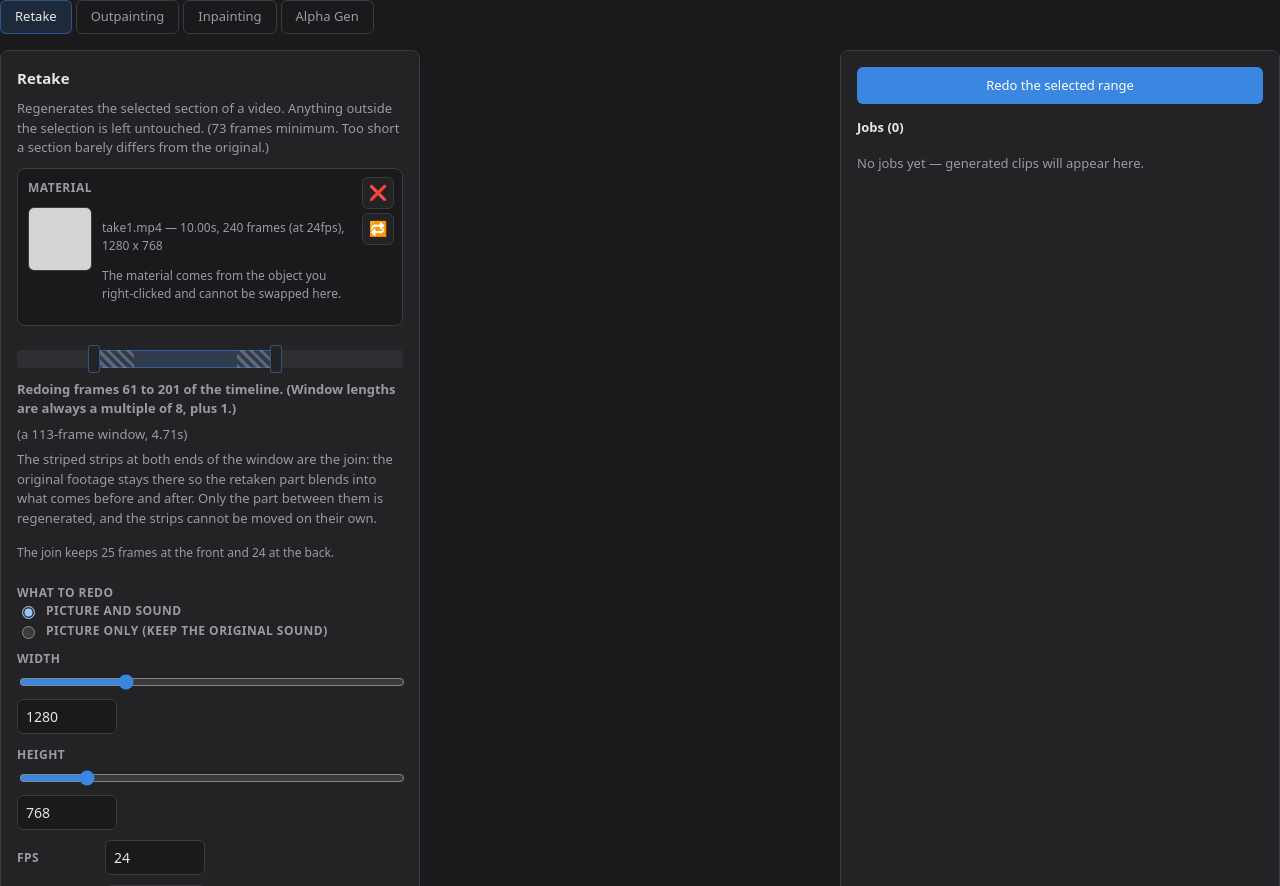
Test case: EditScreen — Retake の ❌ / 🔁 › ❌ を押すと案内状態へ戻り、生成ボタンも消える
Click the button named "Clear this retake and reset the settings" at (378, 192), box [362,176,394,208]
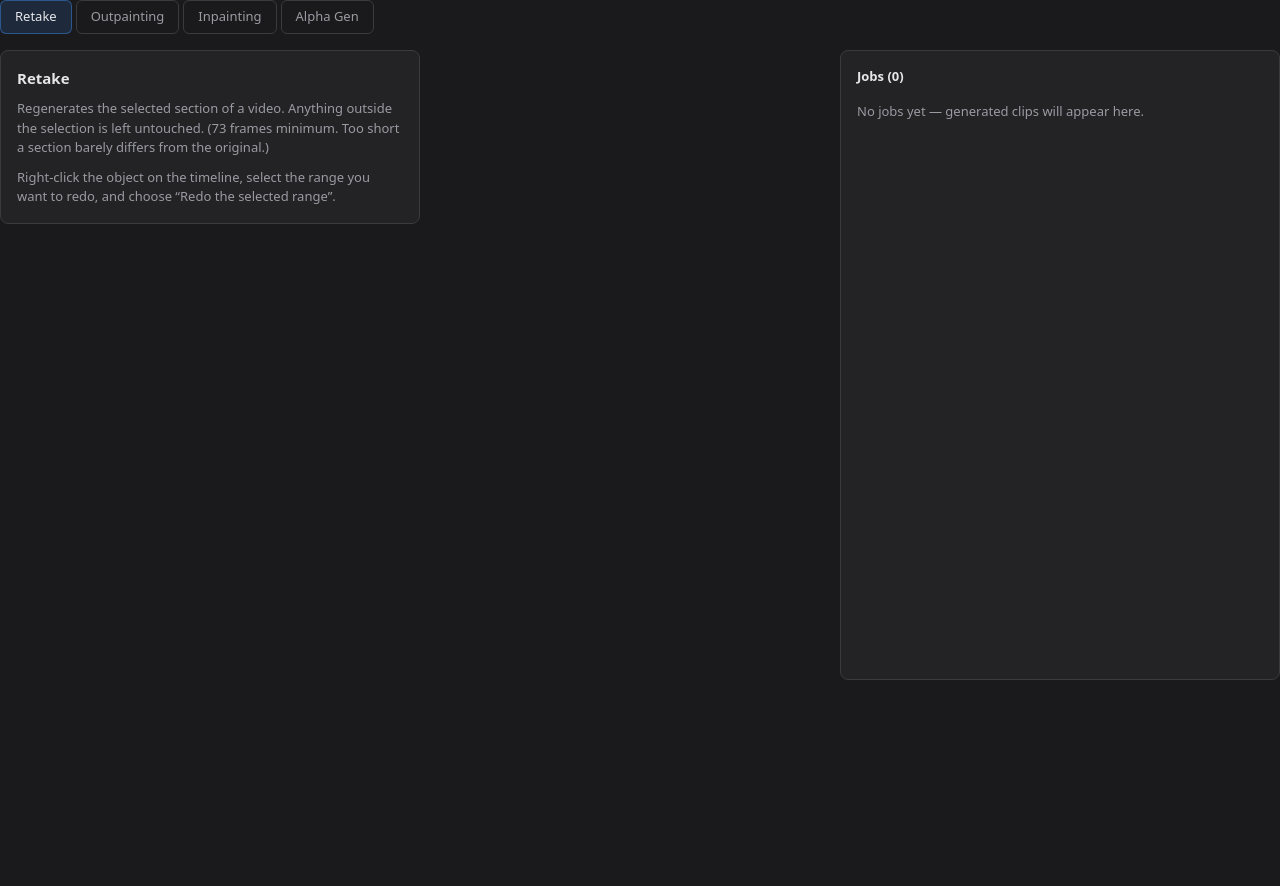
expect the text "Right-click the object on the timeline, select the range you want to redo, and choose “Redo the selected range”." is shown: met, box [17,168,370,205]
expect the slider labelled "Redo the selected range" is gone: met
